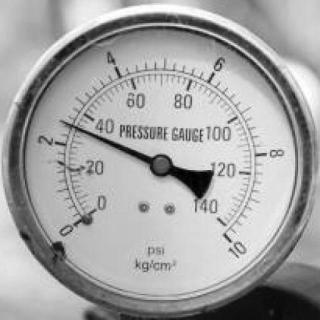gauge: (0, 0, 320, 320), (57, 191, 113, 245), (202, 217, 248, 261), (149, 152, 175, 178), (57, 118, 69, 126)
